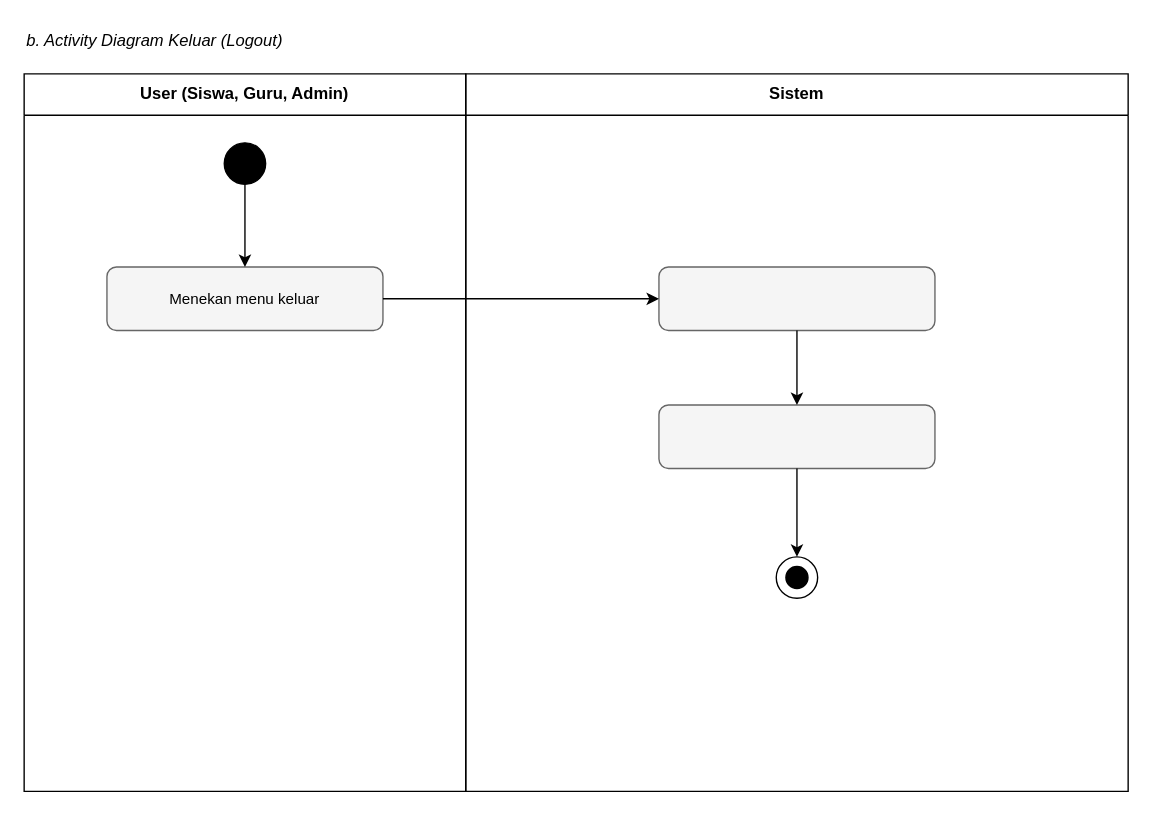
Some shapes in this 1152 by 816 pixel diagram are drawn without their labels. The box of each missing label's shape, as (x1, y1, x2, y2) in pixels:
Mengakhiri sesi pengguna: (658, 266, 935, 331)
Mengarahkan ke halaman masuk: (658, 404, 935, 469)
